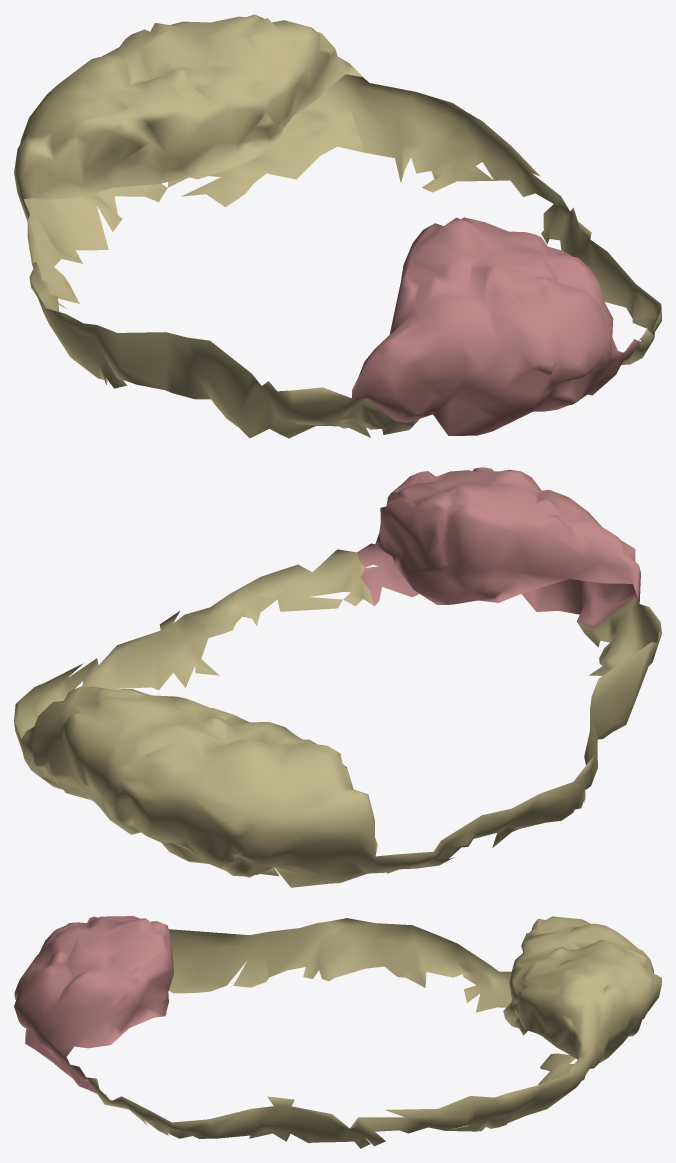
File: platform1collider2.fbx
3 renders of one model, top to bottom at view 1: azimuth 30°, elevation 25°; view 2: azimuth 150°, elevation 25°; view 3: azimuth 270°, elevation 25°, orthographic. The views are drawn at different scales.
Visible parts, largest first — view 1: platform1collider2; view 2: platform1collider2; view 3: platform1collider2.
Boxes of the visible parts, <box> form: platform1collider2: <box>14,14,661,438</box>; platform1collider2: <box>14,467,661,887</box>; platform1collider2: <box>14,916,661,1148</box>.
Size of the model in its own units: 5275 by 2007 by 7465.
